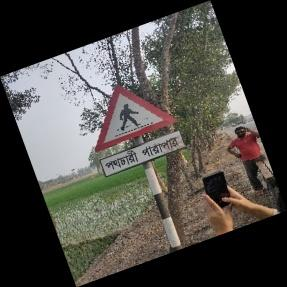Pedestrian-crossing: (94, 85, 185, 178)
